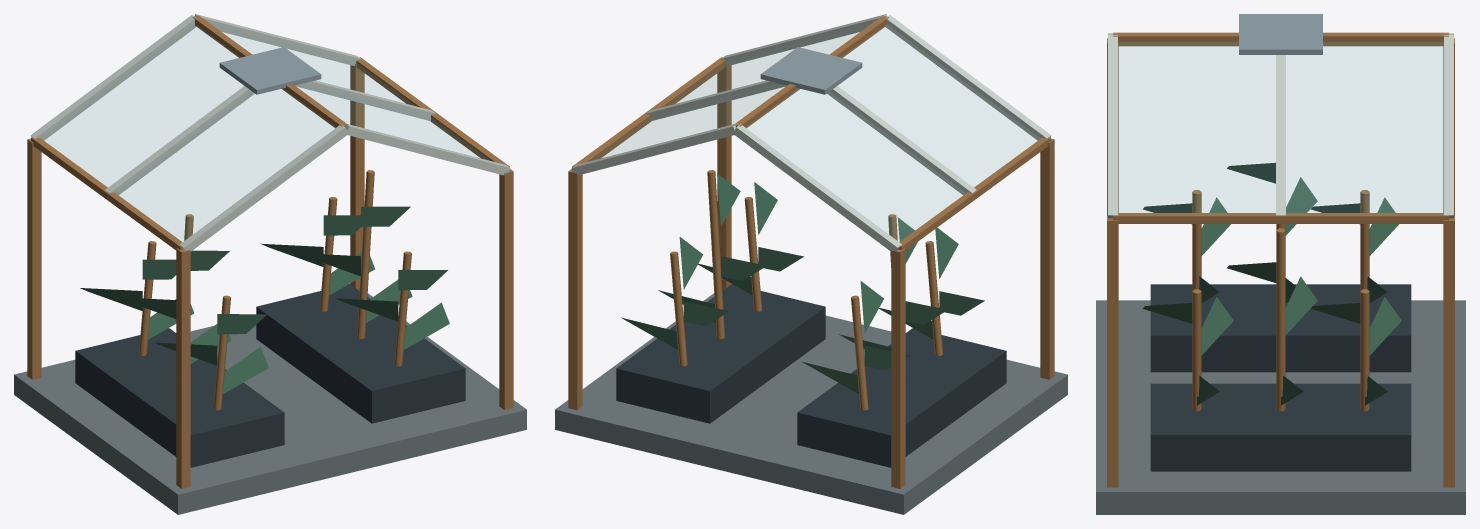
The model's file is glass-garden.lod2.glb.
3 renders of one model, left to right at view 1: azimuth 30°, elevation 25°; view 2: azimuth 150°, elevation 25°; view 3: azimuth 270°, elevation 25°, orthographic. The views are drawn at different scales.
Visible parts, largest first — view 1: structure, vent; view 2: structure, vent; view 3: structure, vent.
Part boxes in pixels (x1,y1,x2,y2): structure: [14, 14, 526, 514]; vent: [219, 47, 321, 94]; structure: [555, 14, 1067, 514]; vent: [760, 47, 862, 94]; structure: [1096, 32, 1465, 514]; vent: [1239, 14, 1322, 54].
Size of the model in its own units: 5.4 by 5.09 by 4.4.
